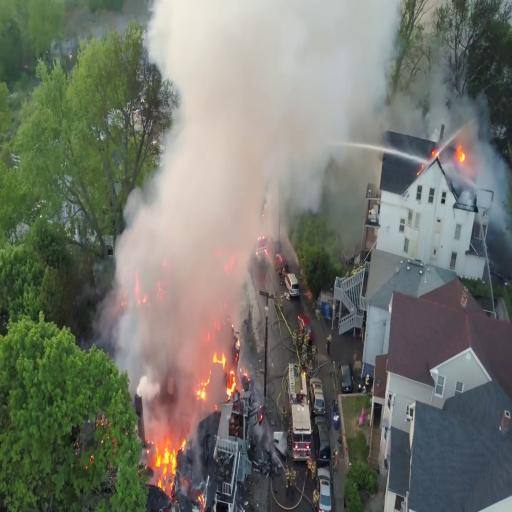fire: (153, 432, 176, 486), (212, 352, 237, 400)
smoke: (167, 6, 362, 122), (166, 6, 247, 253)
